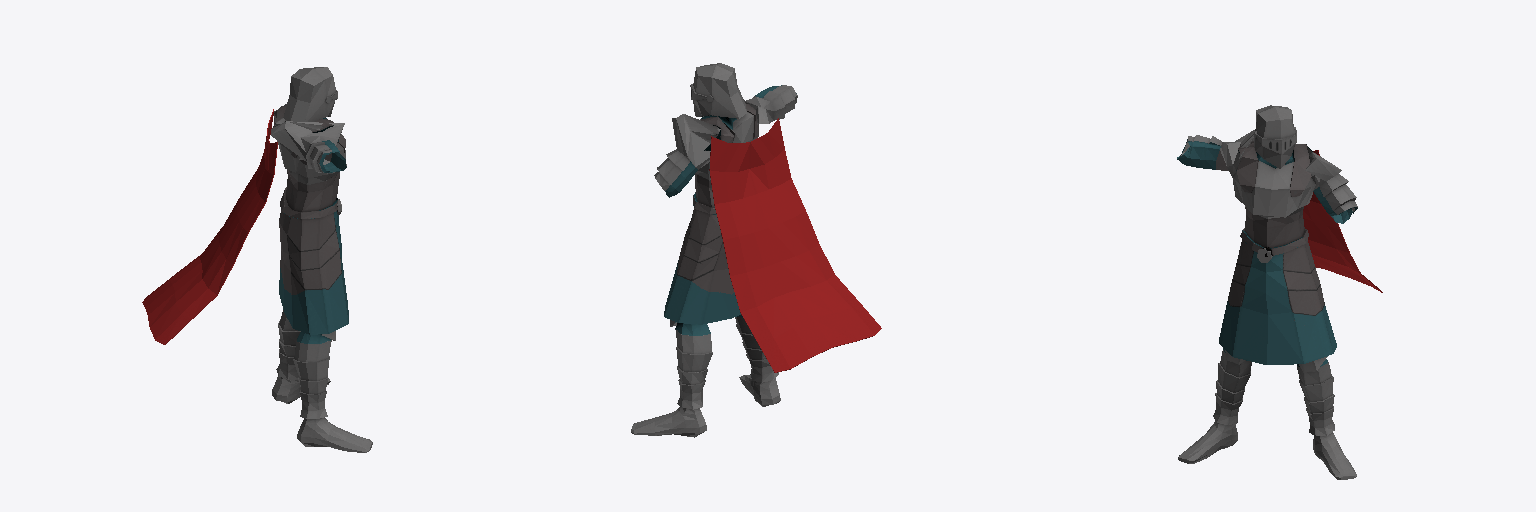
3 views of the same model, side by side, from view 1: azimuth 30°, elevation 25°; view 2: azimuth 150°, elevation 25°; view 3: azimuth 270°, elevation 25° (orthographic).
Visible parts, largest first — view 1: Visor.001_Material_0; view 2: Visor.001_Material_0; view 3: Visor.001_Material_0.
Boxes of the visible parts, box(x1,y1,x2,y2) form: Visor.001_Material_0: box(142, 67, 372, 452); Visor.001_Material_0: box(631, 63, 881, 437); Visor.001_Material_0: box(1177, 105, 1382, 479).
Size of the model in its own units: 2.12 by 3.41 by 1.81.
1 materials, 1 textured.